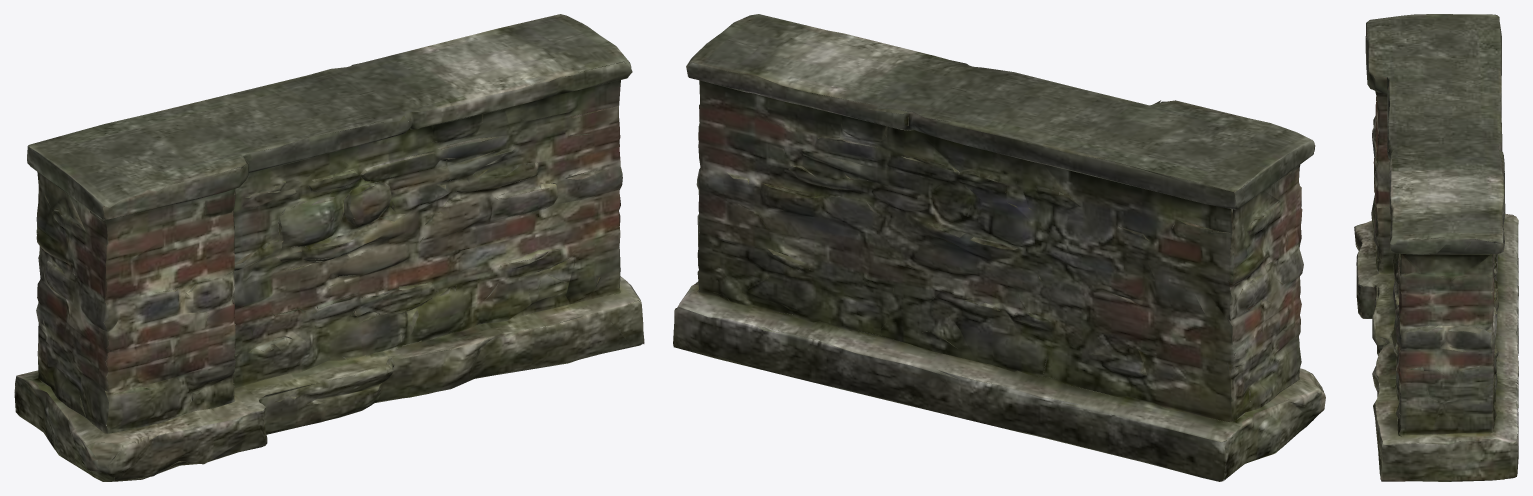
The model's file is service-wall-end.glb.
3 views of the same model, side by side, from view 1: azimuth 30°, elevation 25°; view 2: azimuth 150°, elevation 25°; view 3: azimuth 270°, elevation 25° (orthographic). The views are drawn at different scales.
Parts seen in each view (by area): view 1: Mesh_0; view 2: Mesh_0; view 3: Mesh_0.
Part boxes in pixels (<box>): Mesh_0: <box>14,14,644,481</box>; Mesh_0: <box>673,14,1325,481</box>; Mesh_0: <box>1354,14,1518,481</box>.
Size of the model in its own units: 1.9 by 0.916 by 0.5632.
1 material, 1 textured.
